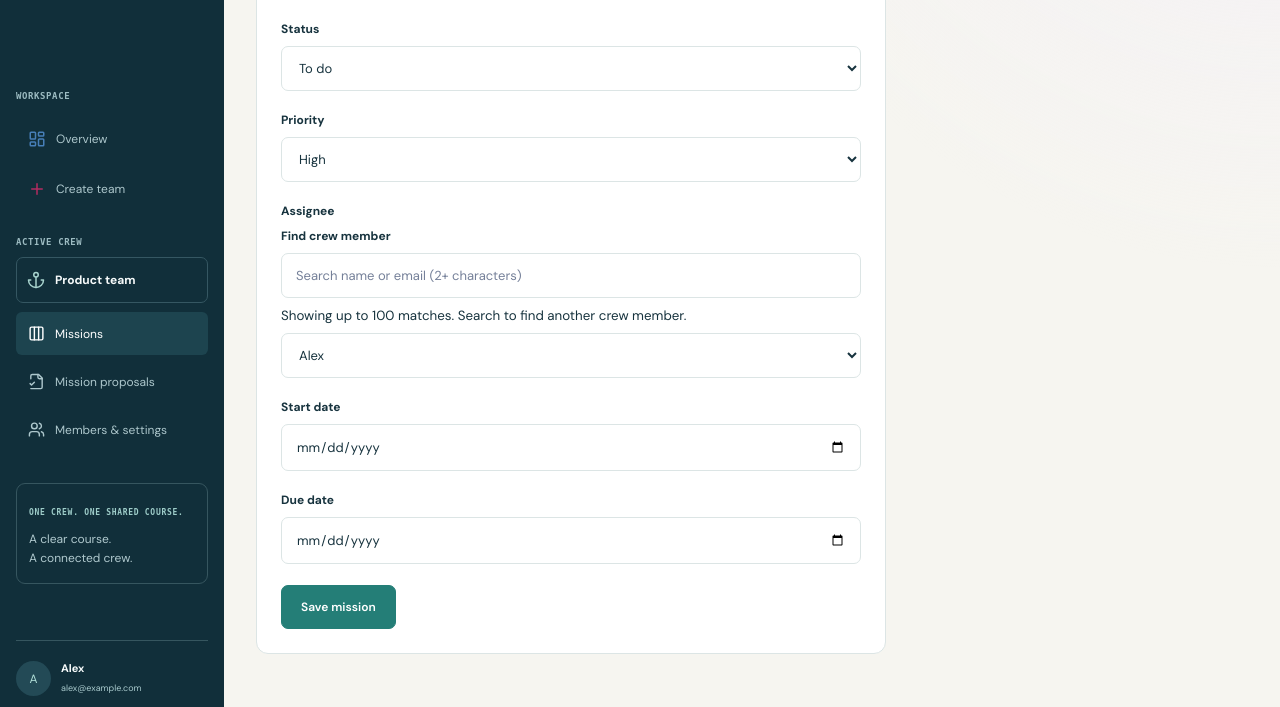
it: Task workflows › shows a conflict and reloads the latest task before editing again
The image size is (1280, 707).
(page scrolled)
Click the button "Save mission". click: {"x": 338, "y": 607}
box: left=281, top=585, right=396, bottom=629
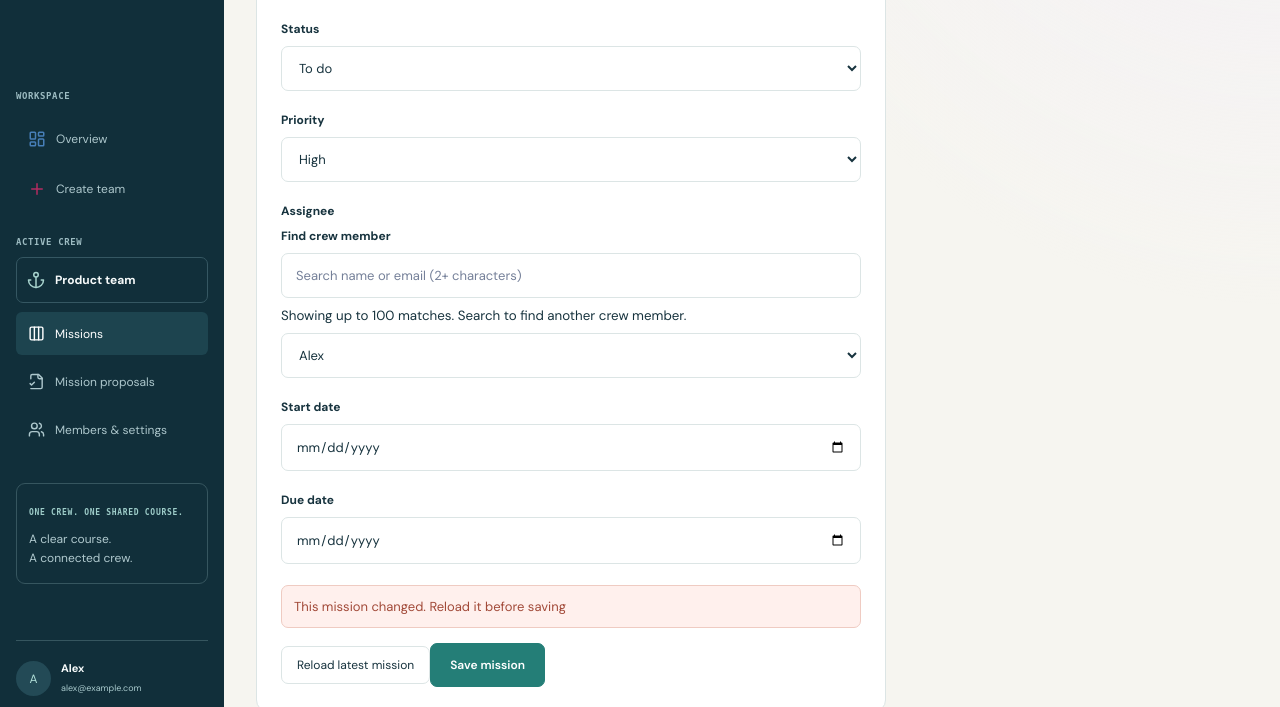
Now the text "This mission changed. Reload it before saving" is shown, box left=281, top=585, right=861, bottom=628
Click the button "Reload latest mission". click: {"x": 356, "y": 665}
box: left=281, top=646, right=430, bottom=684
(page scrolled)
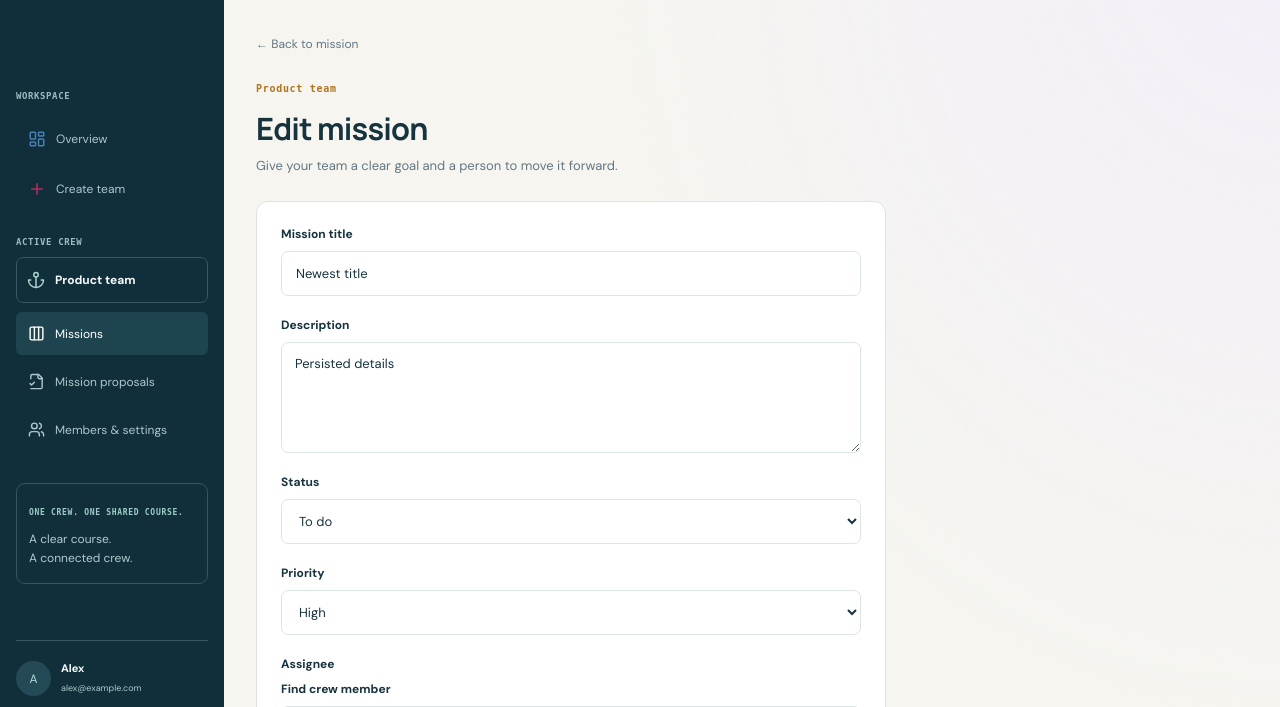
Now the field labelled "Mission title" holds "Newest title", box left=281, top=251, right=861, bottom=296
